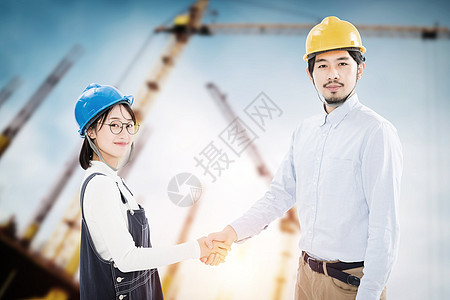safetyhat: (268, 7, 407, 300), (55, 76, 171, 297)
